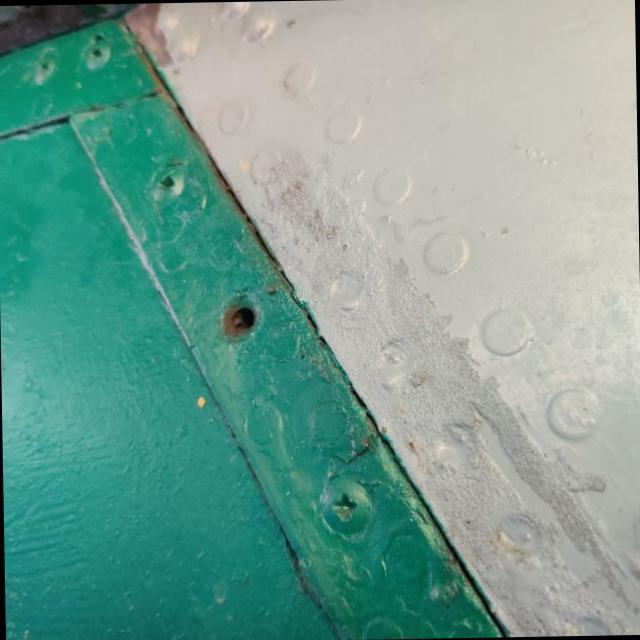Fastener Damage: (195, 280, 282, 362)
